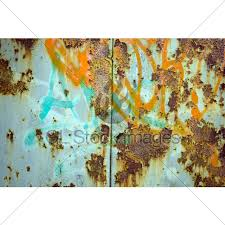rust: (83, 42, 116, 186), (113, 123, 171, 185), (179, 112, 224, 186), (146, 63, 213, 109), (174, 39, 225, 74), (1, 54, 32, 101), (112, 38, 135, 82), (87, 152, 109, 187), (48, 127, 65, 155), (146, 42, 164, 58), (33, 128, 48, 147), (6, 126, 16, 143)
